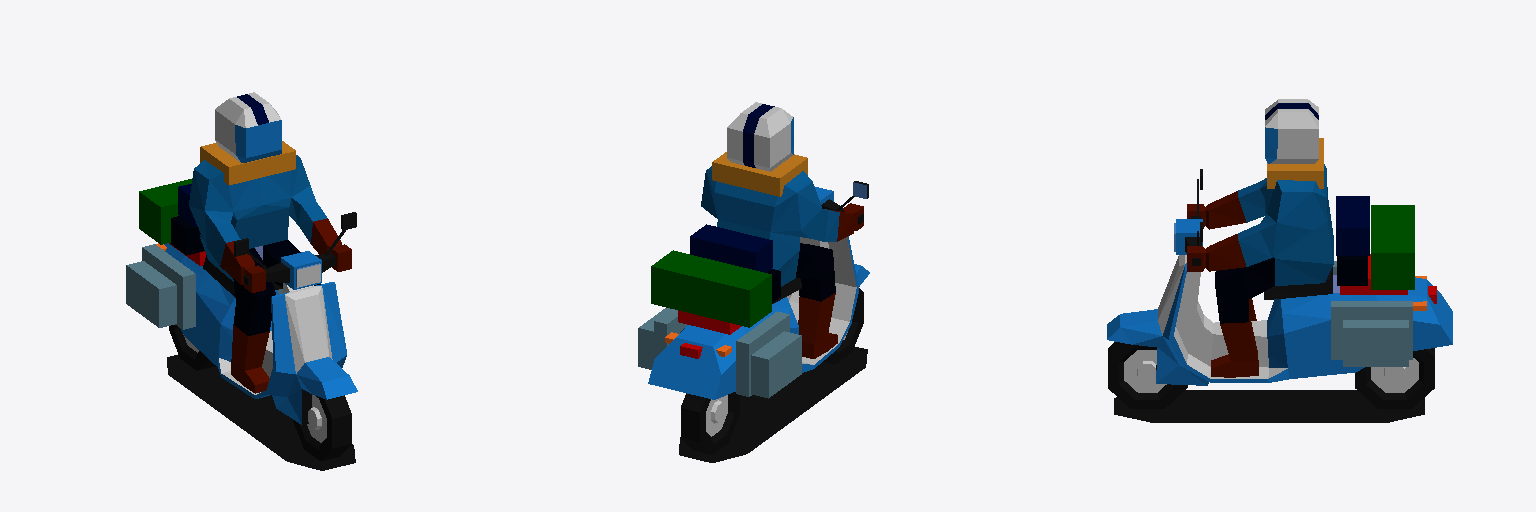
The model's file is scooter.obj.
The picture shows the model from 3 angles: view 1: azimuth 30°, elevation 25°; view 2: azimuth 150°, elevation 25°; view 3: azimuth 270°, elevation 25°; orthographic projection.
Visible parts, largest first — view 1: scooter; view 2: scooter; view 3: scooter.
Boxes of the visible parts, <box> form: scooter: <box>126,92,357,470</box>; scooter: <box>638,102,869,462</box>; scooter: <box>1107,99,1452,422</box>.
Size of the model in its own units: 0.3706 by 0.8178 by 0.8552.